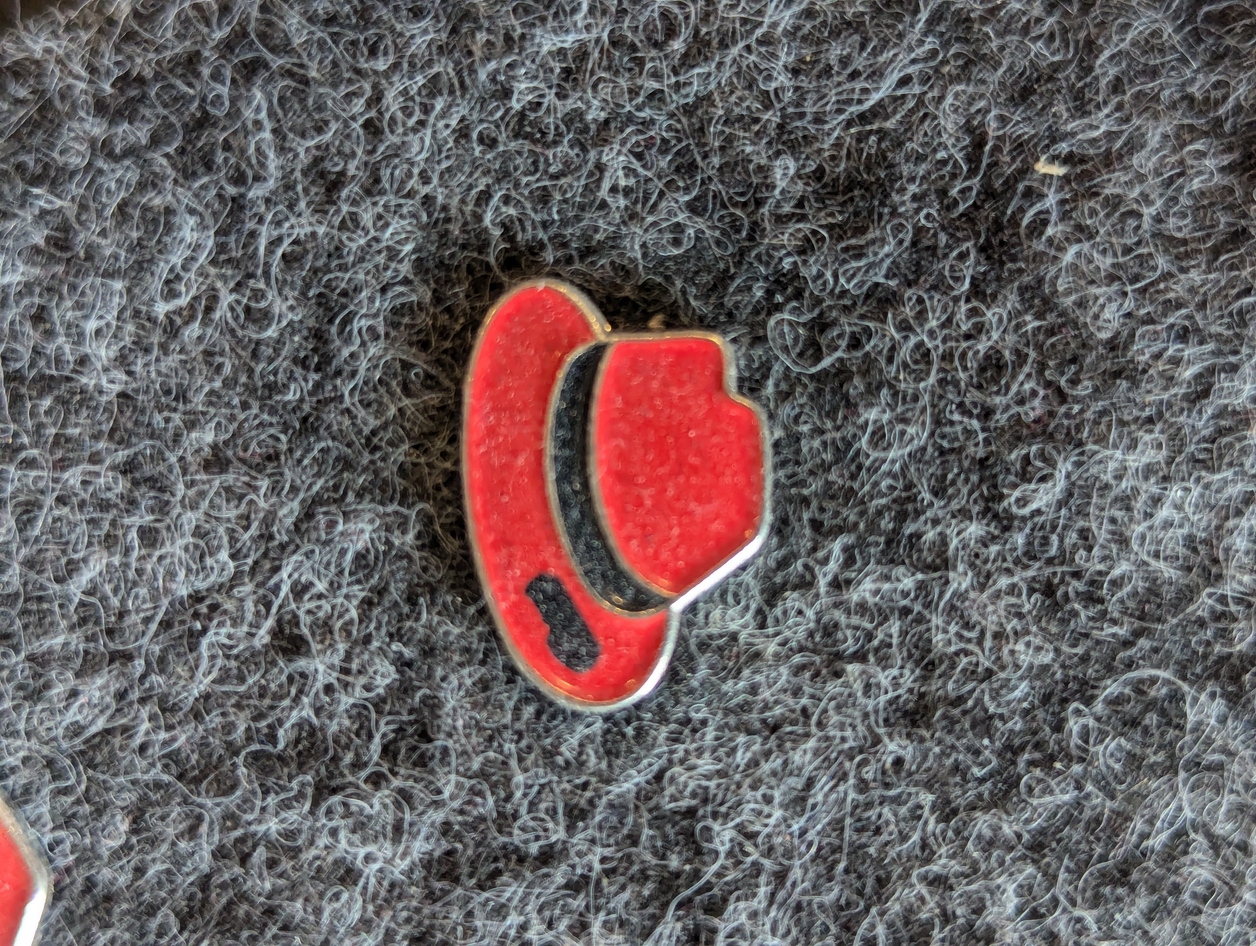Red-Hat: (366, 206, 876, 824)
Scratch: (488, 532, 670, 736)
